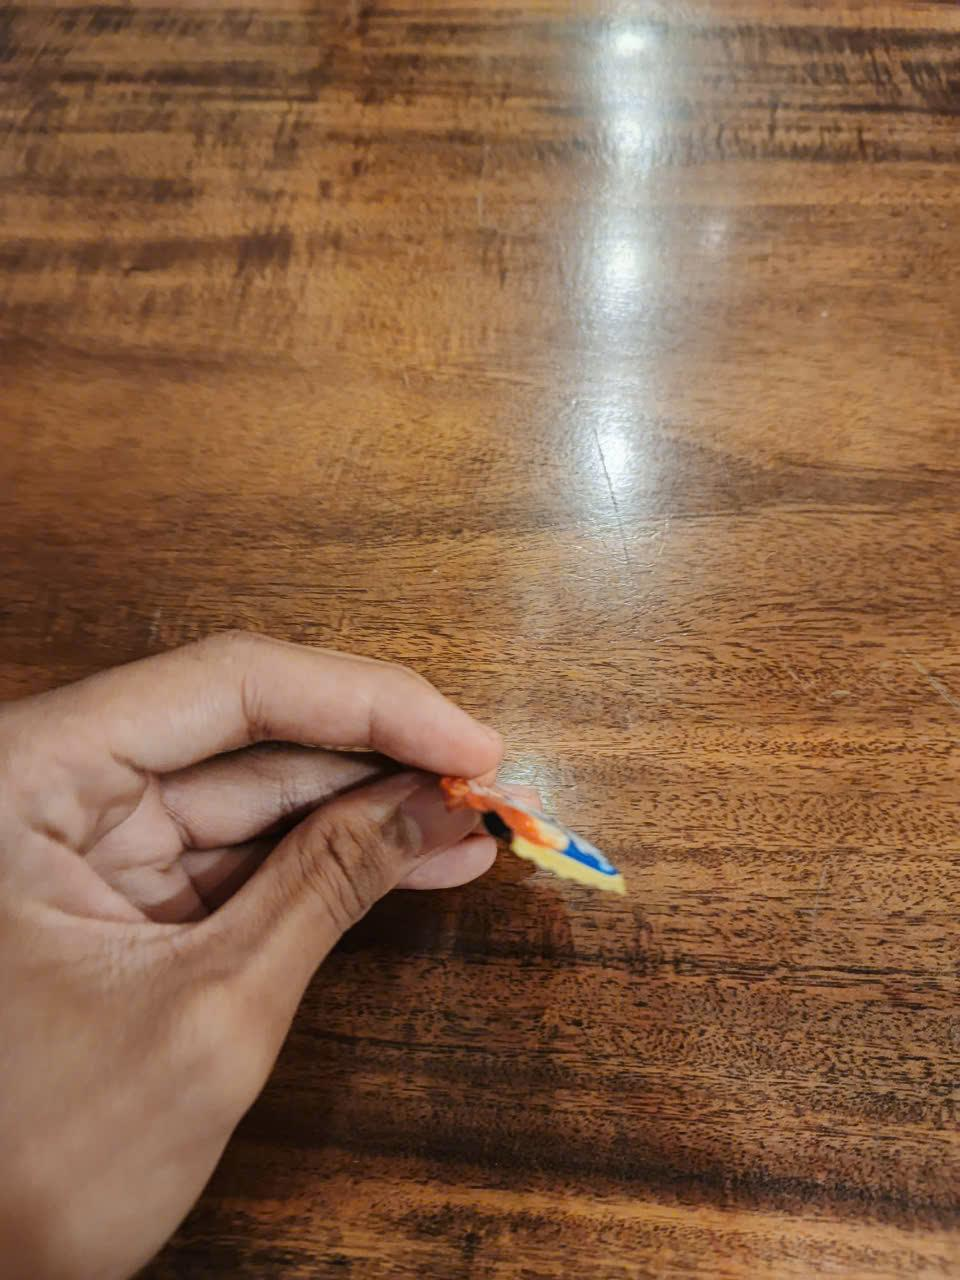Con lai: (443, 778, 636, 911)
